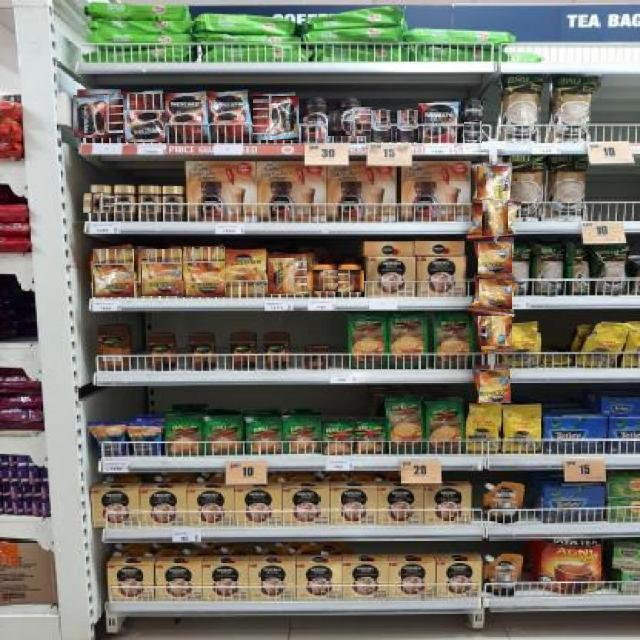Coffee: (73, 94, 125, 138), (183, 246, 225, 297), (122, 93, 165, 142), (92, 248, 134, 297), (252, 97, 299, 140), (210, 93, 252, 141), (140, 248, 182, 296), (166, 94, 208, 141), (227, 251, 268, 295), (268, 257, 307, 294), (422, 103, 456, 144), (302, 99, 333, 143), (328, 106, 372, 136), (476, 166, 510, 200), (478, 369, 510, 403), (477, 242, 512, 273), (478, 278, 512, 309), (478, 316, 512, 346), (483, 199, 508, 236), (83, 192, 118, 213), (114, 185, 135, 220), (140, 185, 161, 220), (396, 109, 418, 142), (370, 109, 391, 142), (163, 185, 182, 220), (334, 270, 364, 292), (308, 269, 338, 291), (463, 99, 484, 121), (463, 122, 482, 143)
